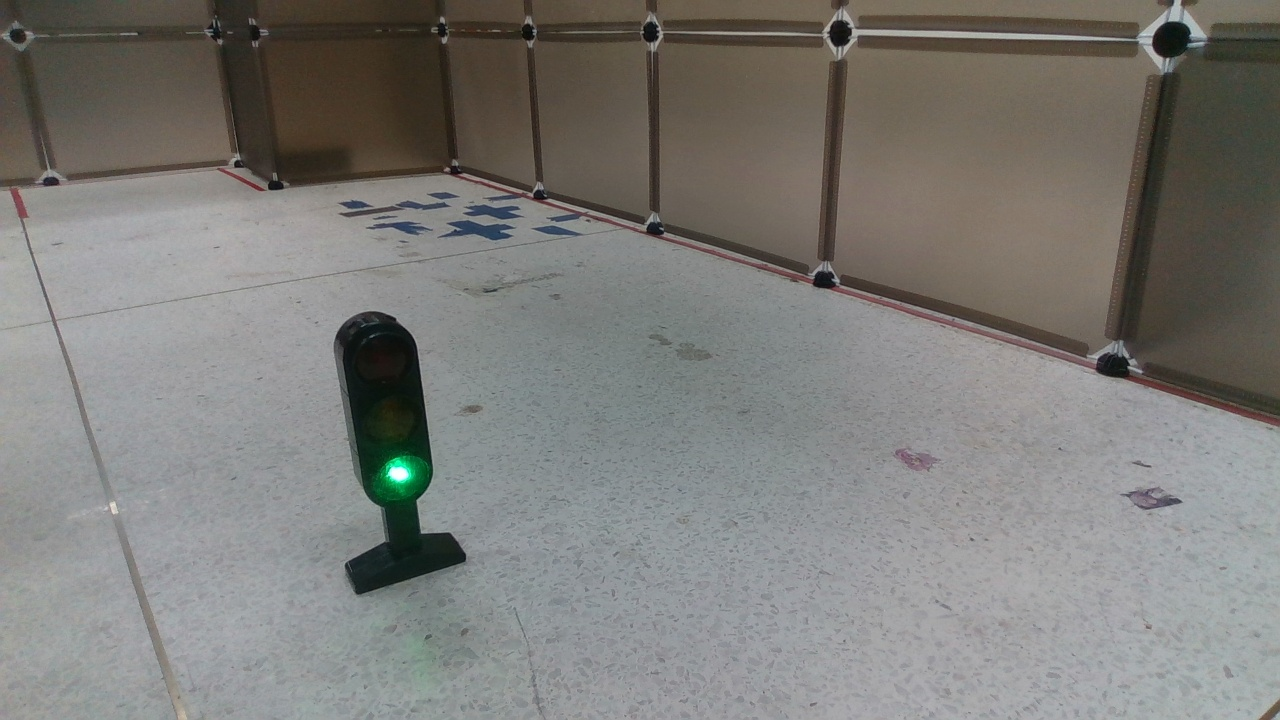Green traffic light: (331, 312, 471, 597)
